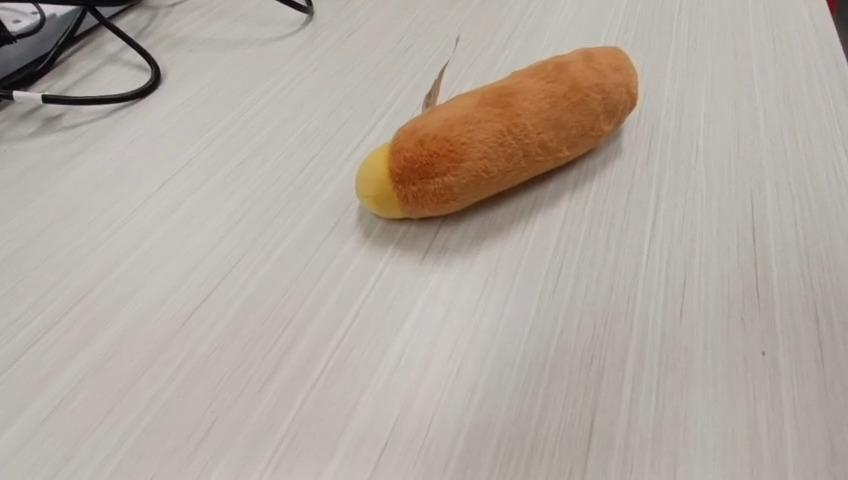hotdog: (354, 38, 639, 220)
